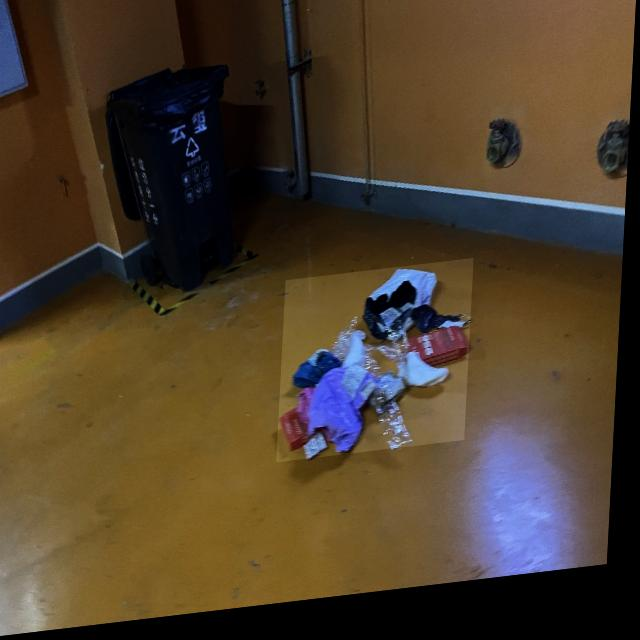garbage: (282, 270, 477, 470)
garbage_bin: (97, 64, 243, 304)
